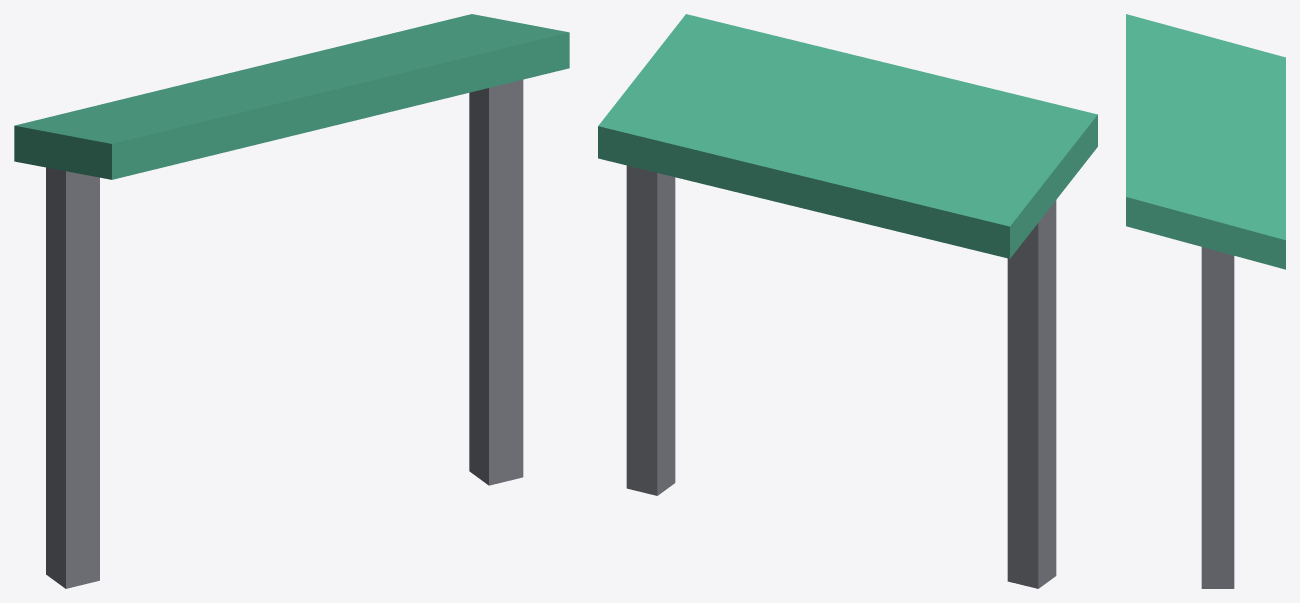
Rendered from detail_awning.dae.
3 renders of one model, left to right at view 1: azimuth 30°, elevation 25°; view 2: azimuth 150°, elevation 25°; view 3: azimuth 270°, elevation 25°, orthographic. The views are drawn at different scales.
Visible parts, largest first — view 1: detail_awning; view 2: detail_awning; view 3: detail_awning.
Part boxes in pixels (x1,y1,x2,y2): detail_awning: (14, 14, 569, 588); detail_awning: (598, 14, 1097, 588); detail_awning: (1126, 14, 1285, 588).
Size of the model in its own units: 0.4 by 0.4 by 0.1479.
